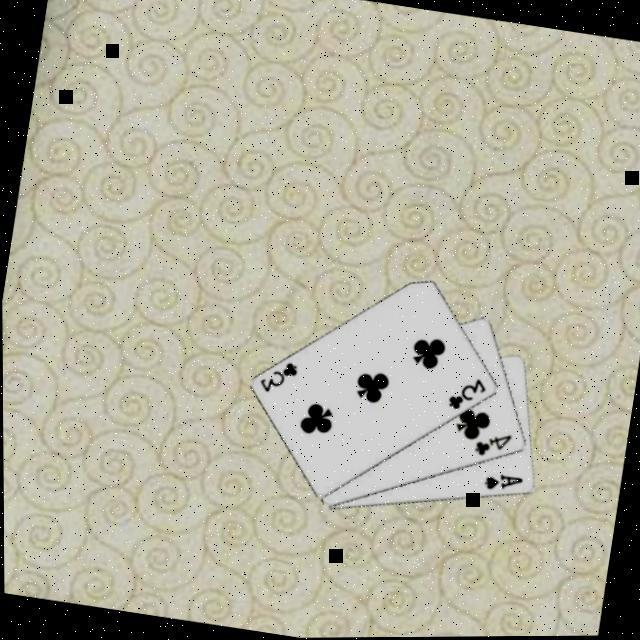3C: (444, 374, 491, 419), (255, 357, 302, 402)
4C: (470, 429, 515, 466)
AS: (480, 471, 527, 500)
